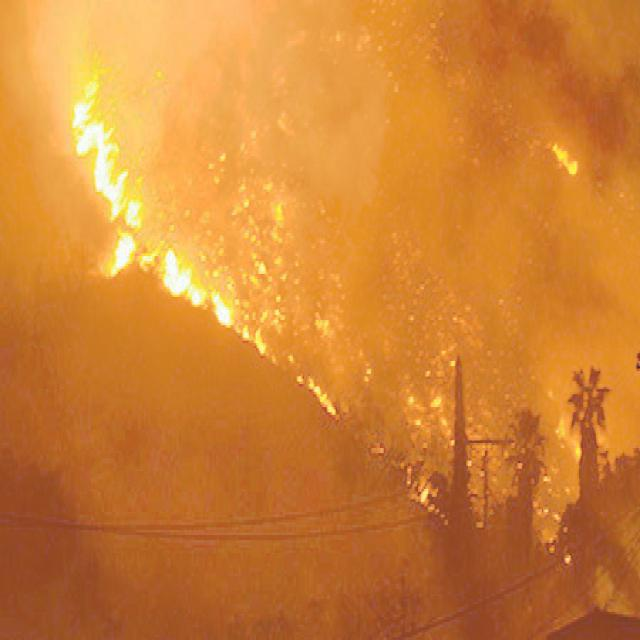api: (66, 59, 150, 281), (151, 223, 271, 358), (401, 386, 457, 458), (408, 468, 450, 528), (299, 364, 340, 424), (552, 137, 583, 183)
